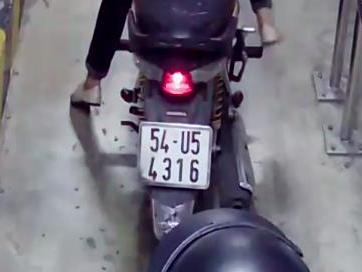num_plate: (139, 121, 212, 191)
